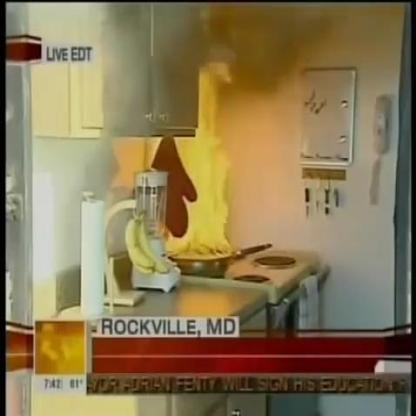fire: (150, 57, 243, 256)
